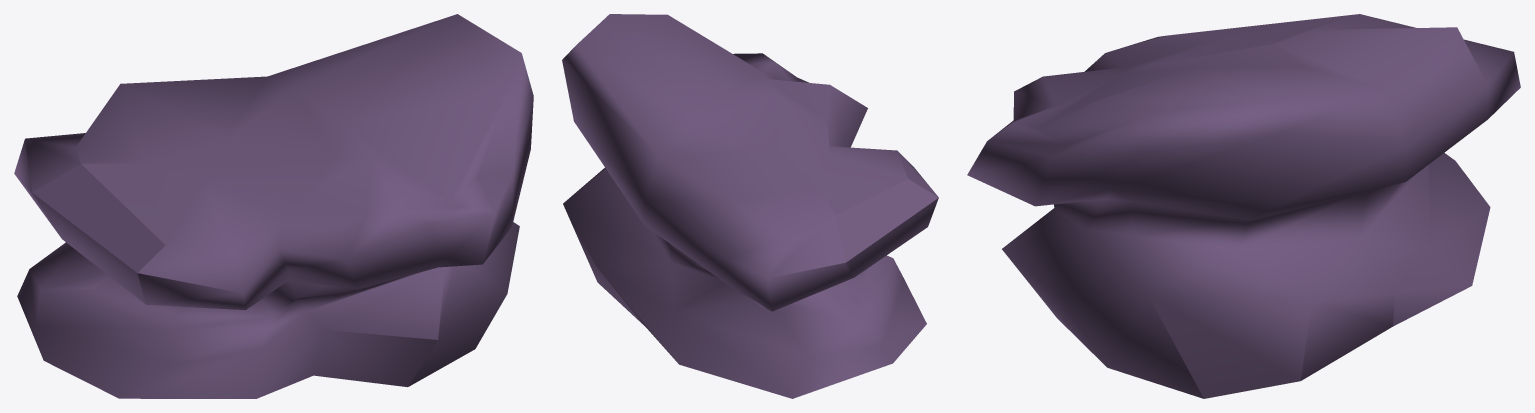
File: sm_rock_01.fbx
3 renders of one model, left to right at view 1: azimuth 30°, elevation 25°; view 2: azimuth 150°, elevation 25°; view 3: azimuth 270°, elevation 25°, orthographic. The views are drawn at different scales.
Visible parts, largest first — view 1: sm_rock_01; view 2: sm_rock_01; view 3: sm_rock_01.
Boxes of the visible parts, x1,y1,x2,y2 form: sm_rock_01: [14, 14, 533, 398]; sm_rock_01: [562, 14, 938, 398]; sm_rock_01: [967, 14, 1520, 398].
Bounding box in the file's own units: 5.76 × 3.53 × 5.89.
